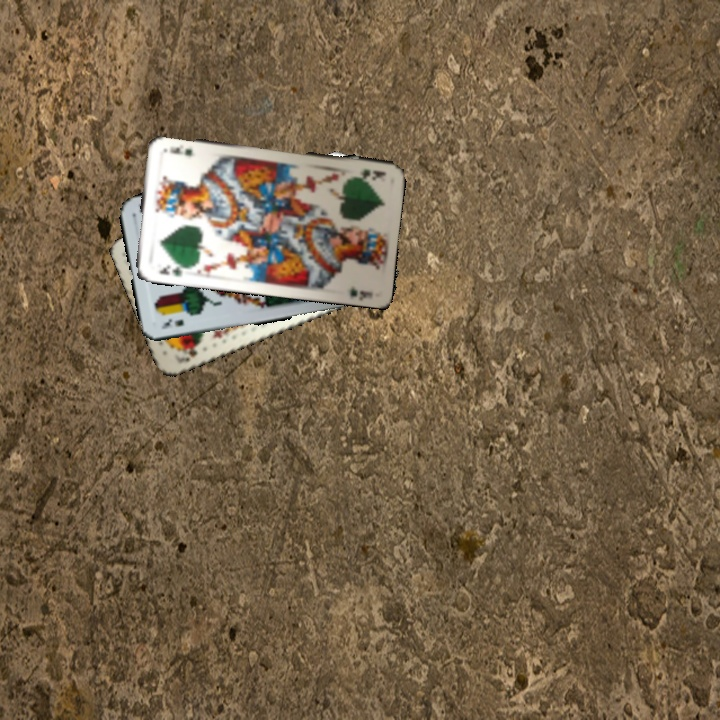EK: (157, 315, 186, 332)
GK: (348, 165, 389, 182), (155, 260, 189, 279)
SK: (177, 340, 204, 366)
